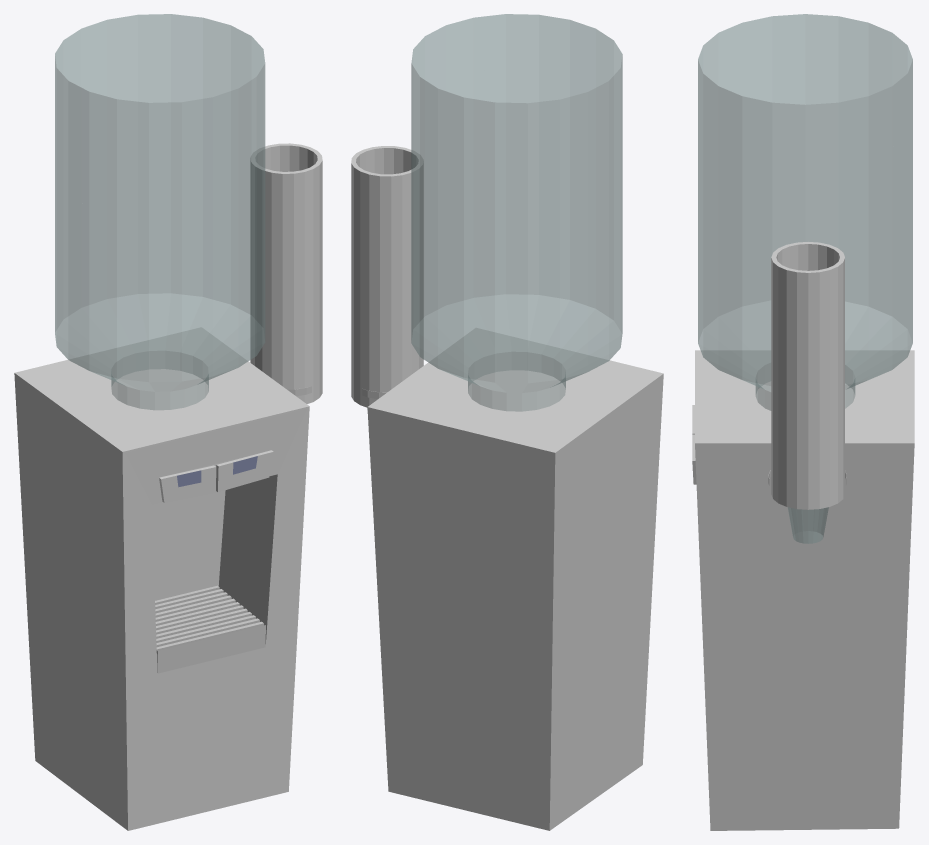
Rendered from Watercooler_WithoutSecretFactoryHack.fbx.
The picture shows the model from 3 angles, left to right: view 1: azimuth 30°, elevation 25°; view 2: azimuth 150°, elevation 25°; view 3: azimuth 270°, elevation 25°; orthographic projection.
Visible parts, largest first — view 1: polySurface4; view 2: polySurface4; view 3: polySurface4.
Part boxes in pixels (box(x1,y1,x2,y2)): polySurface4: box(14, 14, 322, 830); polySurface4: box(351, 14, 663, 830); polySurface4: box(692, 14, 914, 830).
Bounding box in the file's own units: 6.46 × 17.68 × 4.87.
